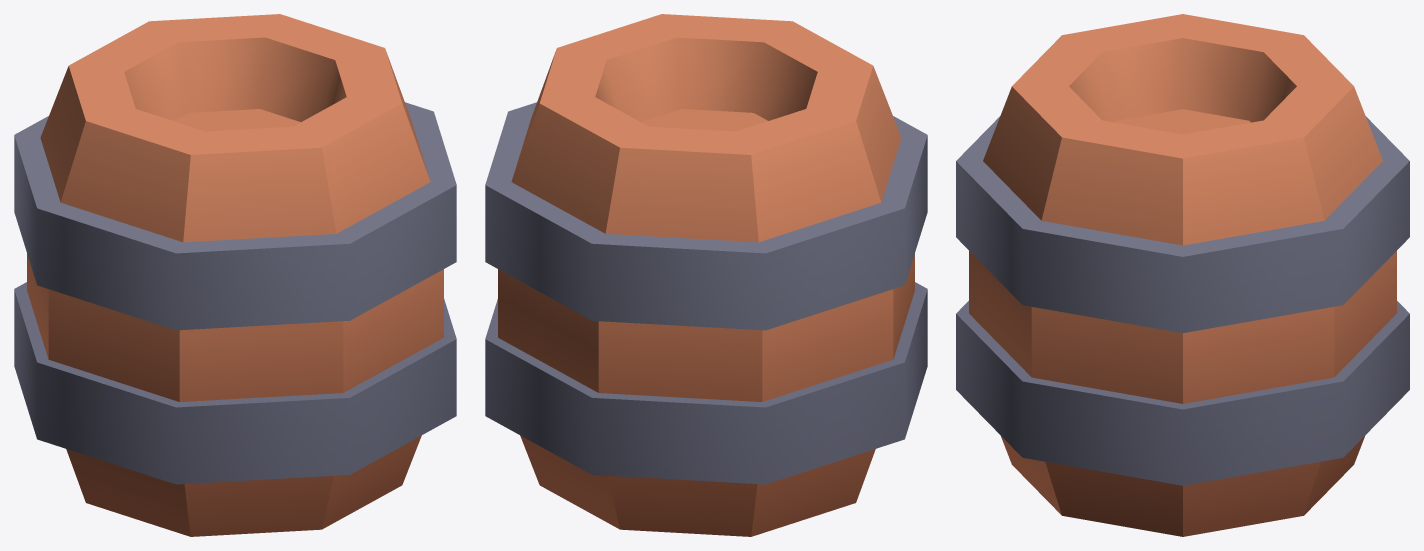
File: barrel.glb
3 renders of one model, left to right at view 1: azimuth 30°, elevation 25°; view 2: azimuth 150°, elevation 25°; view 3: azimuth 270°, elevation 25°, orthographic.
Visible parts, largest first — view 1: barrel; view 2: barrel; view 3: barrel.
Boxes of the visible parts, box(x1,y1,x2,y2) form: barrel: box(14, 14, 456, 536); barrel: box(485, 14, 927, 536); barrel: box(956, 14, 1409, 536).
Bounding box in the file's own units: 0.5176 × 0.4762 × 0.5176.
1 material, 1 textured.
